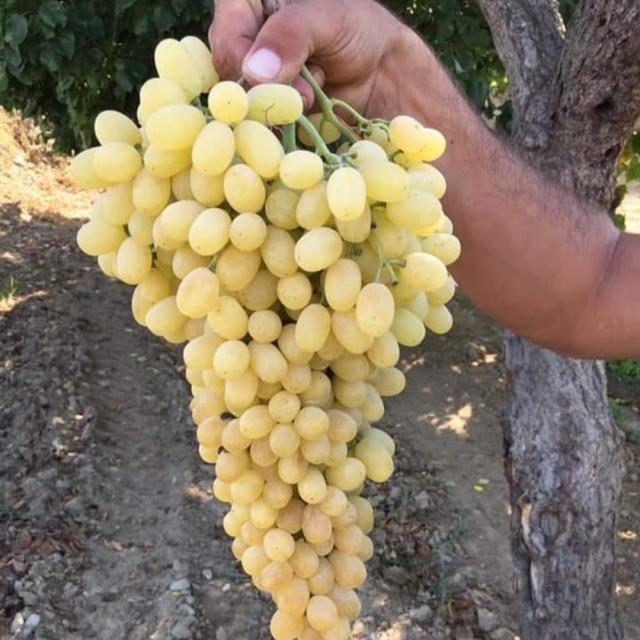grape: (61, 34, 460, 640)
